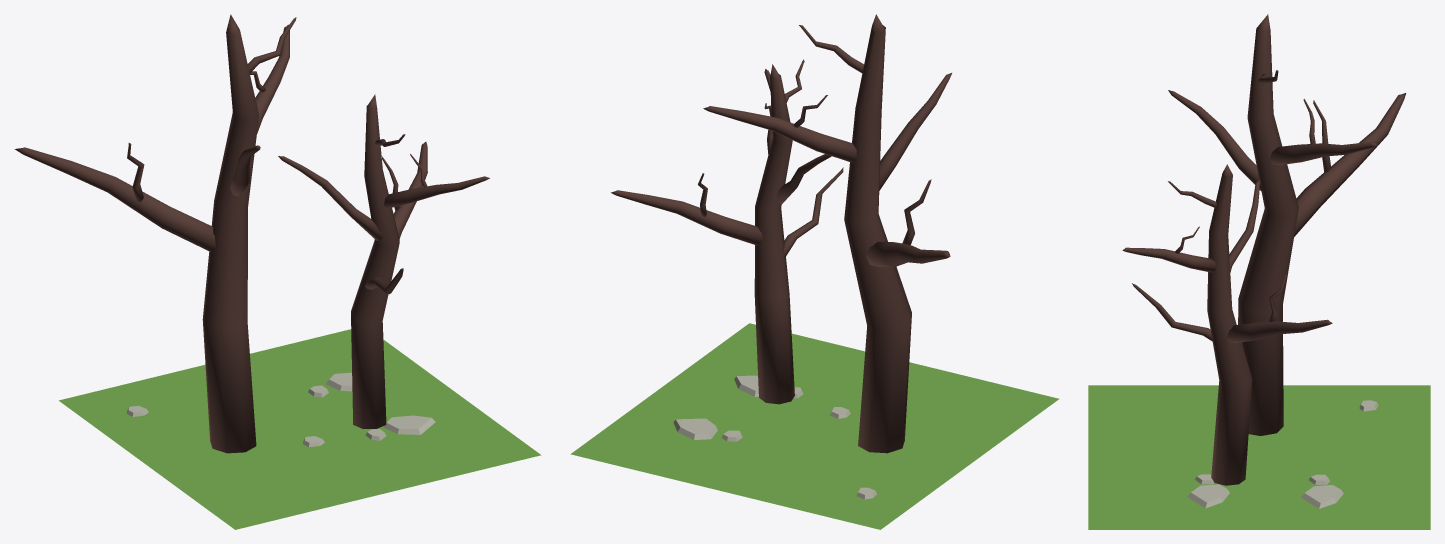
Rendered from Exterior.fbx.
3 renders of one model, left to right at view 1: azimuth 30°, elevation 25°; view 2: azimuth 150°, elevation 25°; view 3: azimuth 270°, elevation 25°, orthographic. The views are drawn at different scales.
Visible parts, largest first — view 1: Ground Exterior, Tree; view 2: Ground Exterior, Tree; view 3: Ground Exterior, Tree.
Part boxes in pixels (x1,y1,x2,y2): Ground Exterior: (59,329,541,529); Tree: (14,14,489,453); Ground Exterior: (570,323,1059,529); Tree: (611,14,951,453); Ground Exterior: (1088,385,1430,529); Tree: (1122,14,1406,508).
Bounding box in the file's own units: 1.22 × 1.37 × 1.
